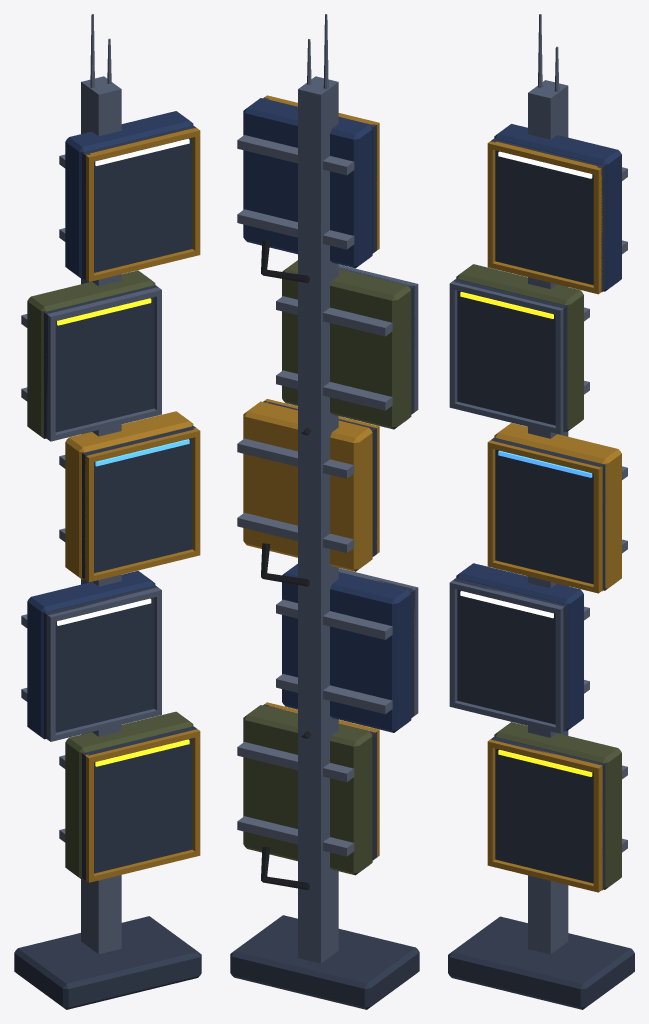
File: bw_targ_neon_totem.glb
3 renders of one model, left to right at view 1: azimuth 30°, elevation 25°; view 2: azimuth 150°, elevation 25°; view 3: azimuth 330°, elevation 25°, orthographic.
Parts seen in each view (by area): view 1: aerial.002, aerial.005, aerial.003, aerial.004, aerial.008, aerial.001, aerial.006, aerial.009, aerial; view 2: aerial.003, aerial.008, aerial.004, aerial.001, aerial.005, aerial.002, aerial.007; view 3: aerial.002, aerial.005, aerial.003, aerial.004, aerial.008, aerial.001, aerial.009, aerial.006, aerial.
Boxes of the visible parts, x1,y1,x2,y2 form: aerial.002: (14, 125, 201, 1009); aerial.005: (65, 127, 200, 882); aerial.003: (46, 76, 161, 954); aerial.004: (27, 270, 193, 880); aerial.008: (27, 111, 193, 739); aerial.001: (21, 14, 111, 842); aerial.006: (57, 298, 189, 766); aerial.009: (57, 138, 189, 625); aerial: (95, 439, 189, 466); aerial.003: (298, 76, 418, 963); aerial.008: (243, 98, 411, 732); aerial.004: (243, 260, 411, 875); aerial.001: (237, 14, 392, 856); aerial.005: (243, 95, 379, 857); aerial.002: (230, 97, 419, 1009); aerial.007: (261, 240, 311, 890); aerial.002: (448, 138, 634, 1009); aerial.005: (487, 141, 621, 892); aerial.003: (449, 80, 568, 954); aerial.004: (456, 264, 621, 889); aerial.008: (456, 124, 621, 730); aerial.001: (538, 14, 627, 852); aerial.009: (460, 151, 592, 618); aerial.006: (460, 292, 592, 776); aerial: (498, 450, 592, 477).
Size of the model in its own units: 1 by 6 by 0.6.
